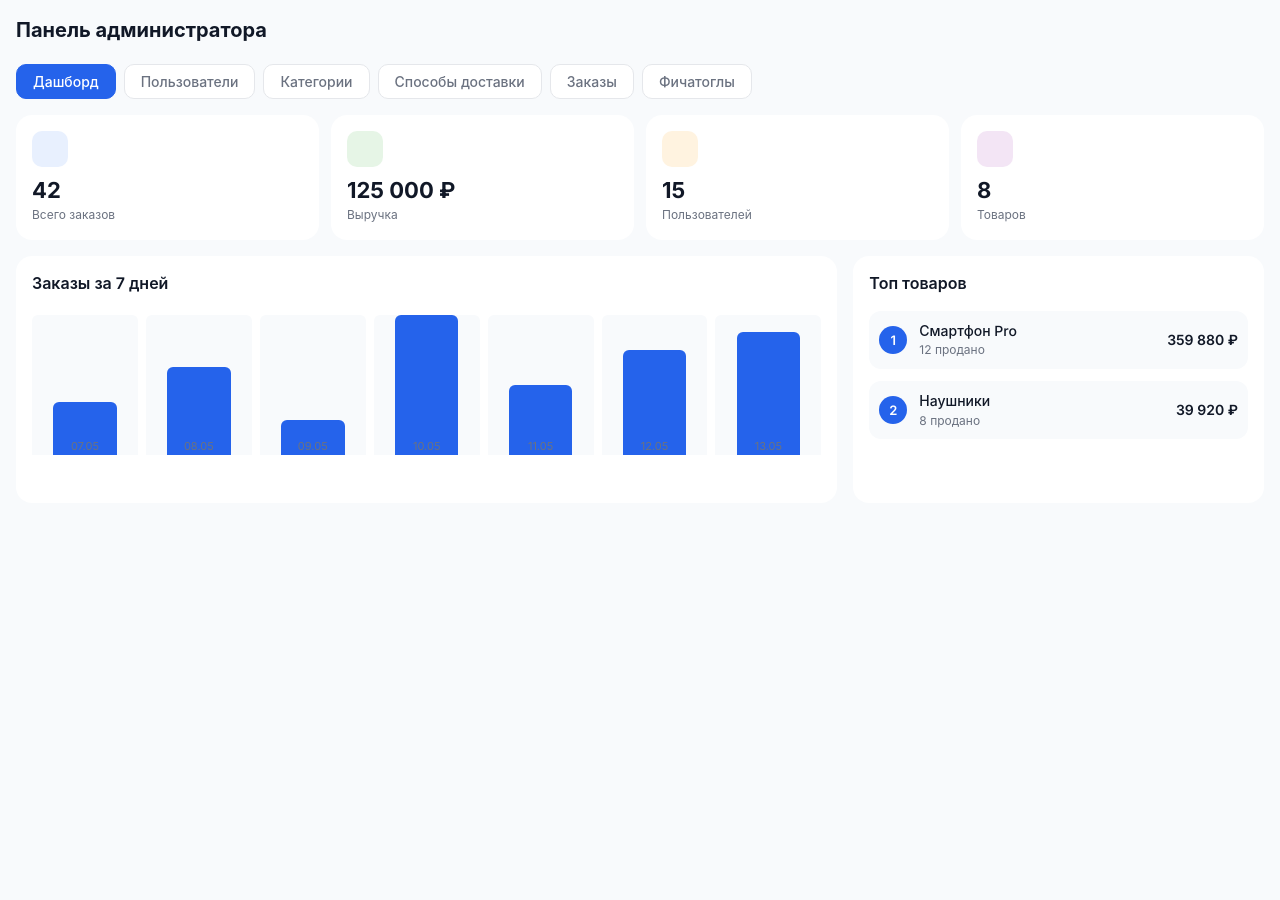
Test: Admin.vue › отображает категории
Click the button with test id "admin-section-tab-categories" at point(316, 82), box x1=263 y1=64 x2=370 y2=99
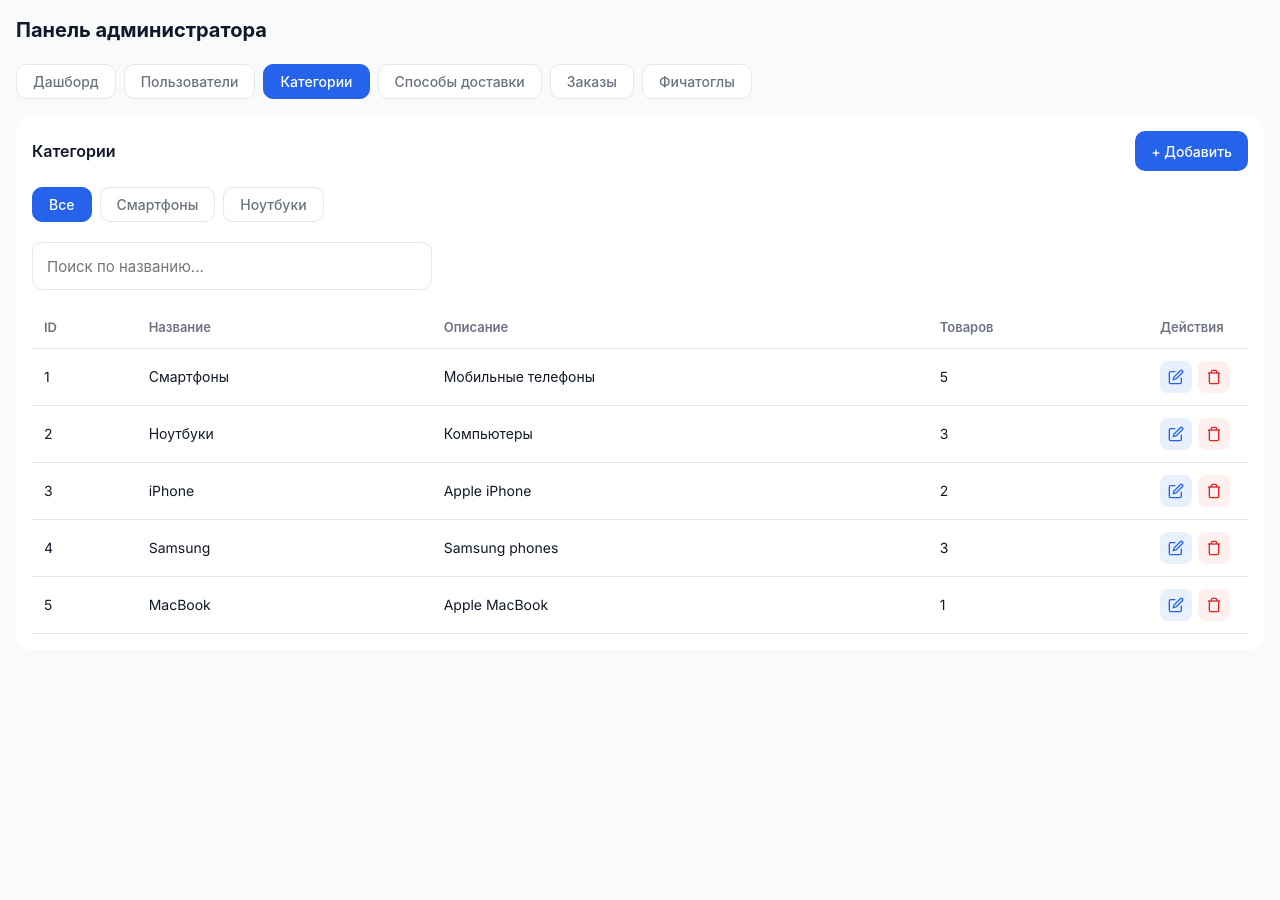
expect the element with test id "categories-section" shows "Категории": met, box x1=32 y1=141 x2=116 y2=161
expect the element with test id "categories-section" shows "Смартфоны": met, box x1=100 y1=187 x2=215 y2=222
expect the element with test id "categories-section" shows "Ноутбуки": met, box x1=223 y1=187 x2=324 y2=222
